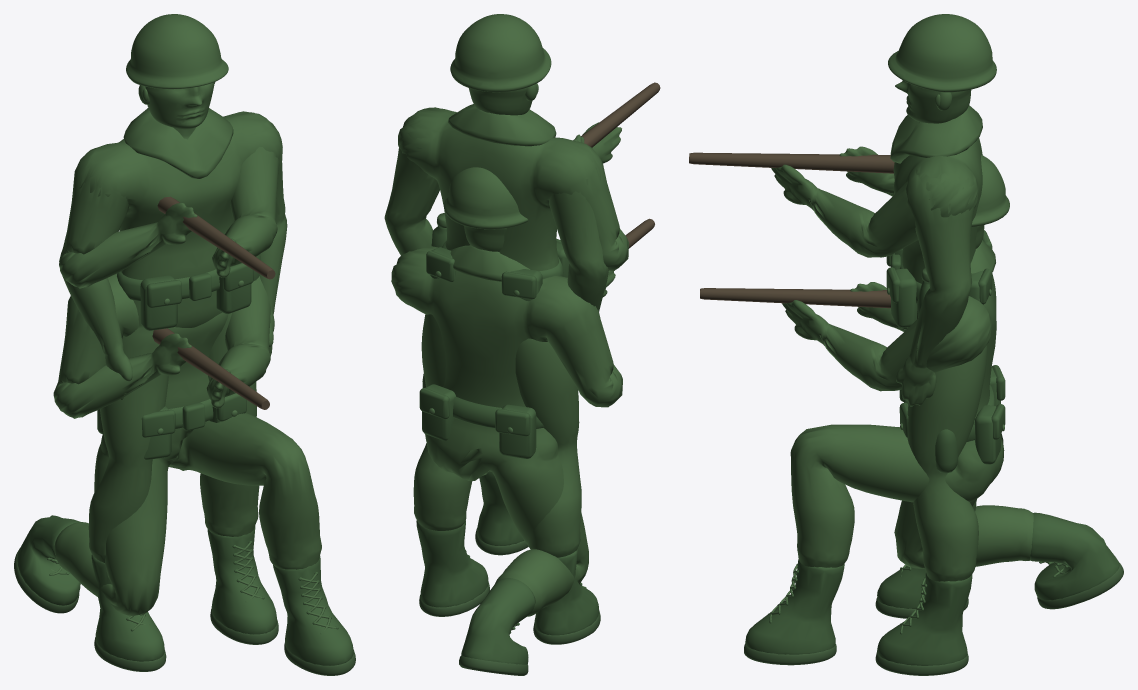
File: toy_soldier_poses.glb
The picture shows the model from 3 angles, left to right: view 1: azimuth 30°, elevation 25°; view 2: azimuth 150°, elevation 25°; view 3: azimuth 270°, elevation 25°; orthographic projection. The views are drawn at different scales.
Parts seen in each view (by area): view 1: Standing_Torso, Kneeling_LeftLeg, Kneeling_RightLeg, Standing_RightLeg, Standing_LeftLeg, Standing_Head, Standing_RightArm, Kneeling_Torso, Kneeling_RightArm, Standing_LeftArm, Kneeling_LeftArm, Unarmed_Torso (+4 smaller); view 2: Kneeling_Torso, Standing_Torso, Standing_RightLeg, Kneeling_RightLeg, Standing_LeftLeg, Standing_Head, Kneeling_RightArm, Kneeling_Head, Unarmed_RightArm, Unarmed_LeftArm, Standing_RightArm, Kneeling_LeftLeg (+3 smaller); view 3: Kneeling_LeftLeg, Standing_LeftLeg, Kneeling_RightLeg, Standing_Torso, Kneeling_Torso, Standing_Head, Unarmed_LeftArm, Standing_LeftArm, Kneeling_LeftArm, Standing_Stick, Kneeling_Stick, Standing_RightLeg (+4 smaller).
Part boxes in pixels (bbox=[...]): Standing_Torso: bbox=[76, 108, 275, 355]; Kneeling_LeftLeg: bbox=[177, 413, 355, 675]; Kneeling_RightLeg: bbox=[14, 458, 181, 615]; Standing_RightLeg: bbox=[88, 343, 168, 671]; Standing_LeftLeg: bbox=[200, 327, 278, 644]; Standing_Head: bbox=[126, 14, 228, 129]; Standing_RightArm: bbox=[59, 162, 197, 288]; Kneeling_Torso: bbox=[69, 273, 246, 480]; Kneeling_RightArm: bbox=[53, 296, 191, 418]; Standing_LeftArm: bbox=[212, 126, 279, 277]; Kneeling_LeftArm: bbox=[206, 276, 270, 408]; Unarmed_Torso: bbox=[79, 112, 281, 227]; Kneeling_Torso: bbox=[391, 245, 589, 493]; Standing_Torso: bbox=[398, 104, 600, 353]; Standing_RightLeg: bbox=[515, 344, 600, 644]; Kneeling_RightLeg: bbox=[459, 469, 588, 675]; Standing_LeftLeg: bbox=[413, 314, 489, 616]; Standing_Head: bbox=[450, 14, 551, 115]; Kneeling_RightArm: bbox=[546, 299, 622, 407]; Kneeling_Head: bbox=[444, 167, 528, 251]; Unarmed_RightArm: bbox=[549, 156, 608, 311]; Unarmed_LeftArm: bbox=[384, 127, 439, 255]; Standing_RightArm: bbox=[556, 134, 628, 270]; Kneeling_LeftLeg: bbox=[475, 471, 528, 555]; Kneeling_LeftLeg: bbox=[744, 424, 929, 665]; Standing_LeftLeg: bbox=[875, 350, 987, 675]; Kneeling_RightLeg: bbox=[894, 499, 1123, 609]; Standing_Torso: bbox=[886, 105, 992, 367]; Kneeling_Torso: bbox=[899, 240, 1005, 501]; Standing_Head: bbox=[888, 14, 996, 123]; Unarmed_LeftArm: bbox=[896, 190, 974, 406]; Standing_LeftArm: bbox=[771, 164, 956, 257]; Kneeling_LeftArm: bbox=[782, 300, 976, 391]; Standing_Stick: bbox=[689, 152, 894, 173]; Kneeling_Stick: bbox=[700, 288, 890, 308]; Standing_RightLeg: bbox=[875, 499, 976, 618].
Bounding box in the file's own units: 0.695 × 1.76 × 1.12.
